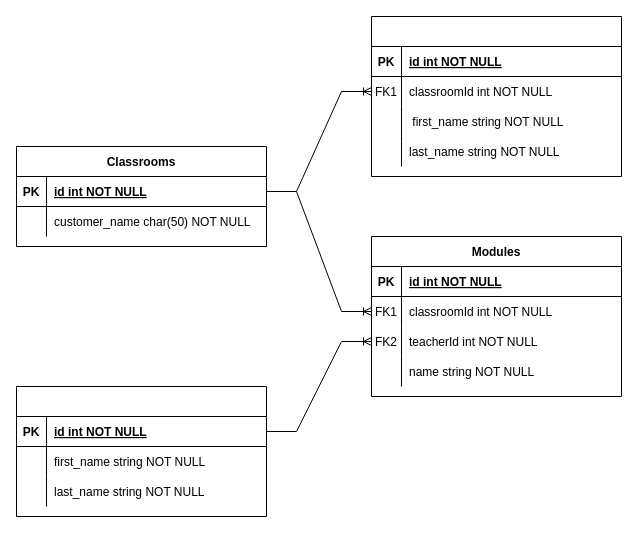
This 638x533 diagram has some shape labels left out. The box of each missing label's shape, as (x1, y1, x2, y2) in pixels:
Students: (370, 16, 622, 176)
Teachers: (16, 386, 266, 516)
